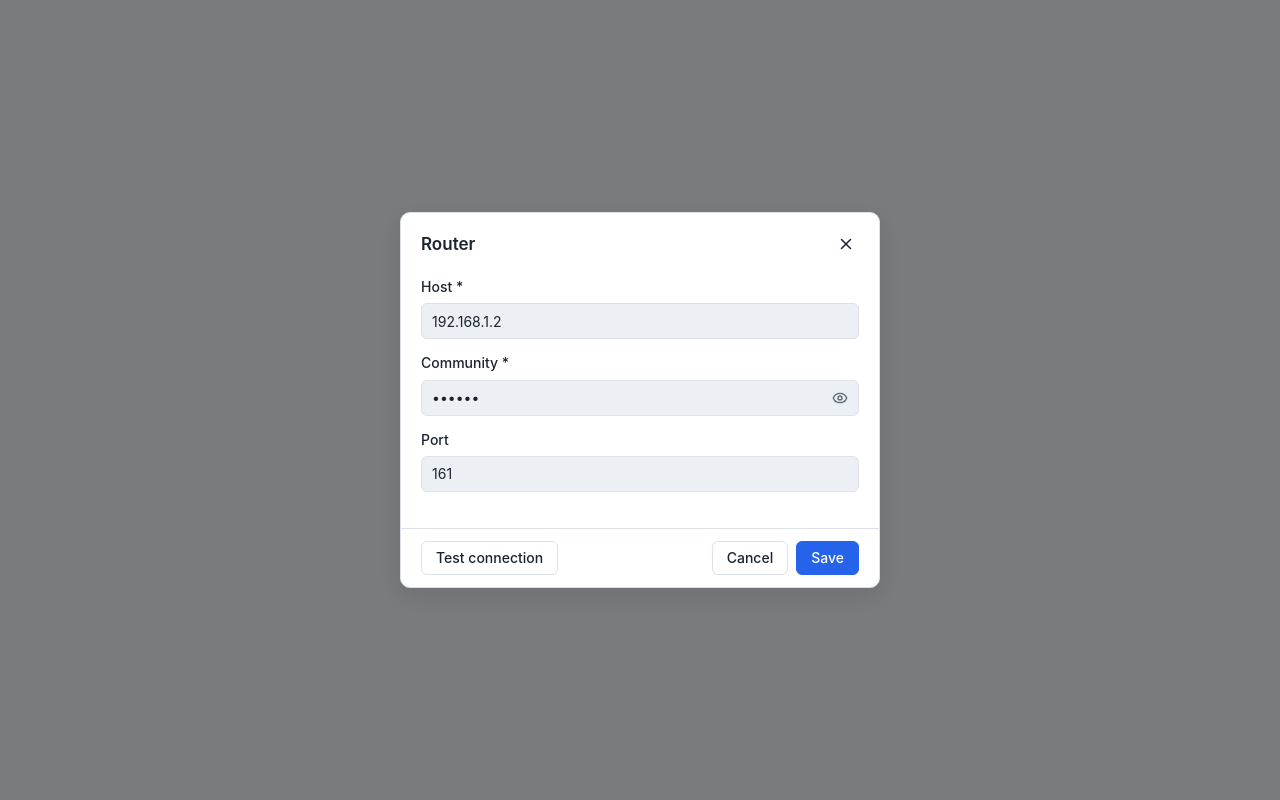
Test: IntegrationForm › tests the connection and shows the result
Click the button "Test connection". click: [490, 558]
box: [421,541,558,575]
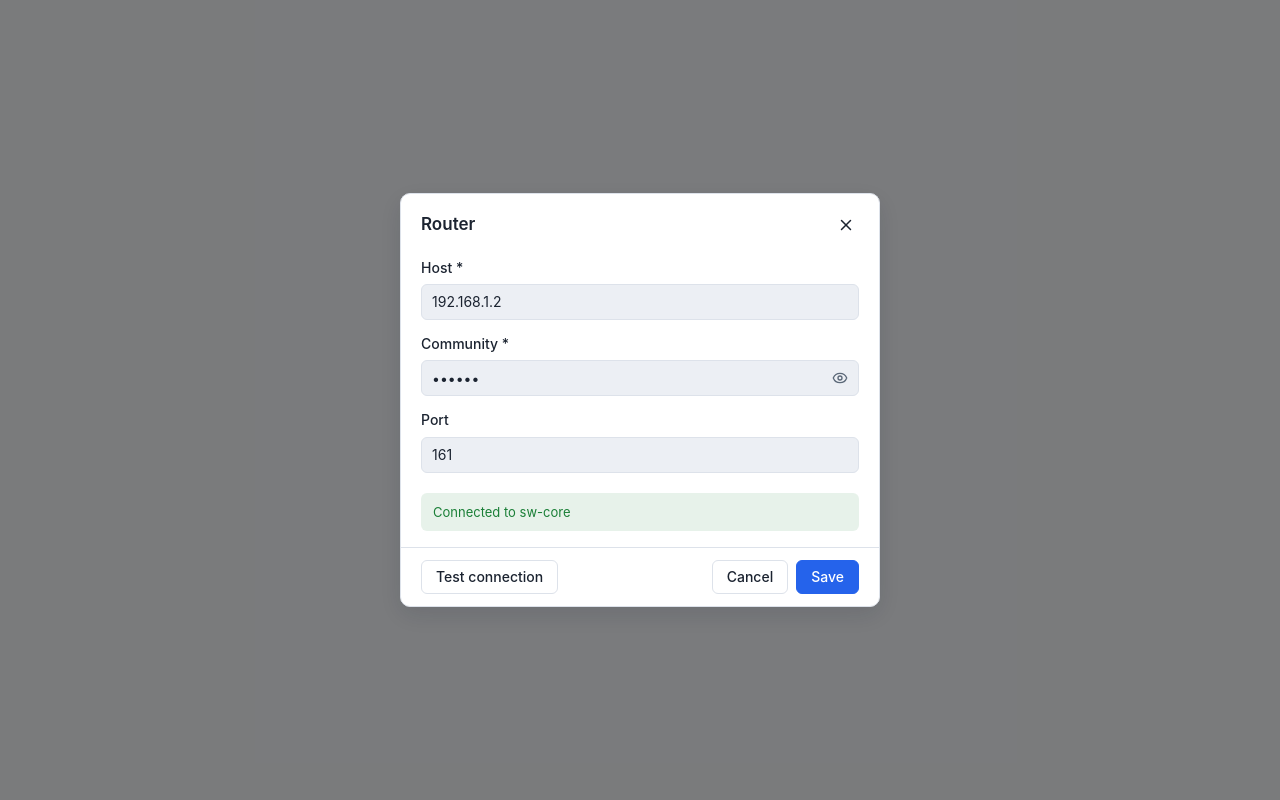
Check: the message "Connected to sw-core" is shown, box [421,492,859,531]
